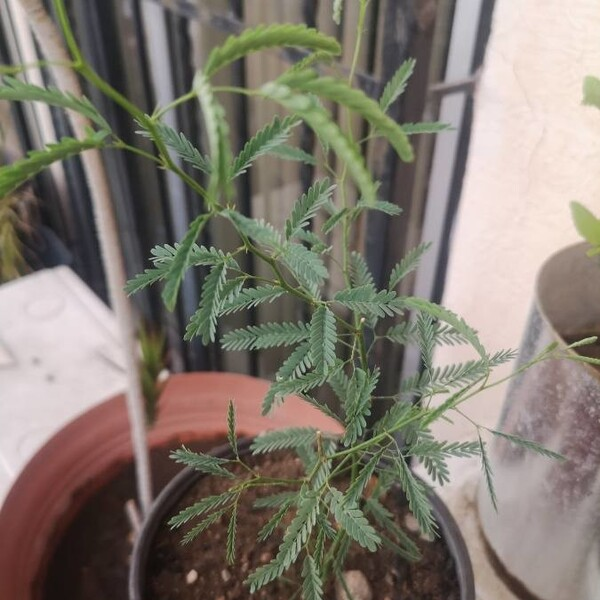obstacle: (10, 19, 491, 584)
